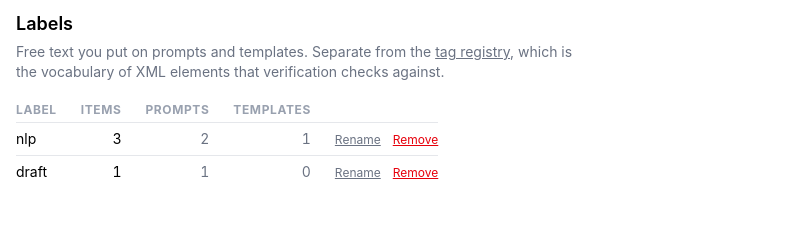
Test: Labels › renames across everything and says how many were touched
Click the button with aria-label "Rename nlp".
click(358, 140)  # box [335, 132, 381, 148]
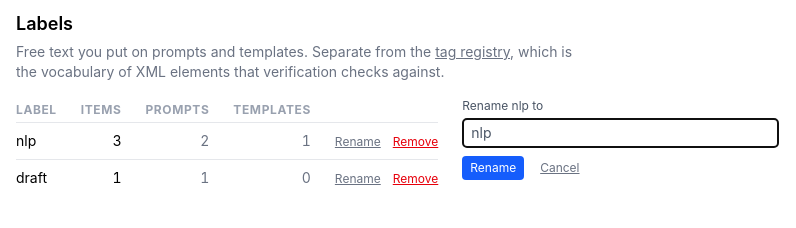
Replace the text in the field with "language" at (621, 133), box [462, 118, 779, 148]
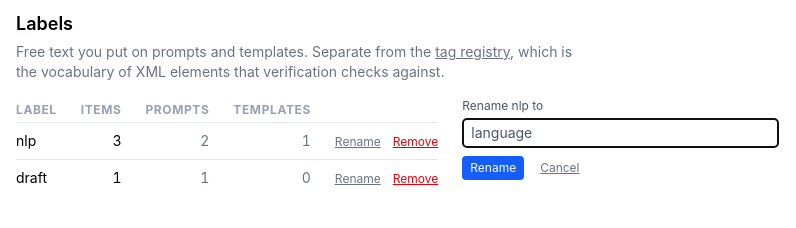
Click the button "Rename" below "to".
click(493, 168)  # box [462, 156, 524, 180]
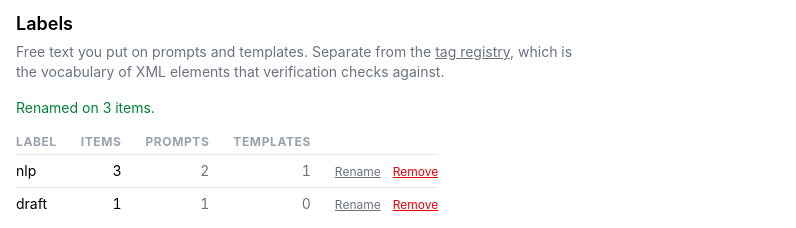
Now the text "Renamed on 3 items." is shown, box [16, 99, 155, 116]
